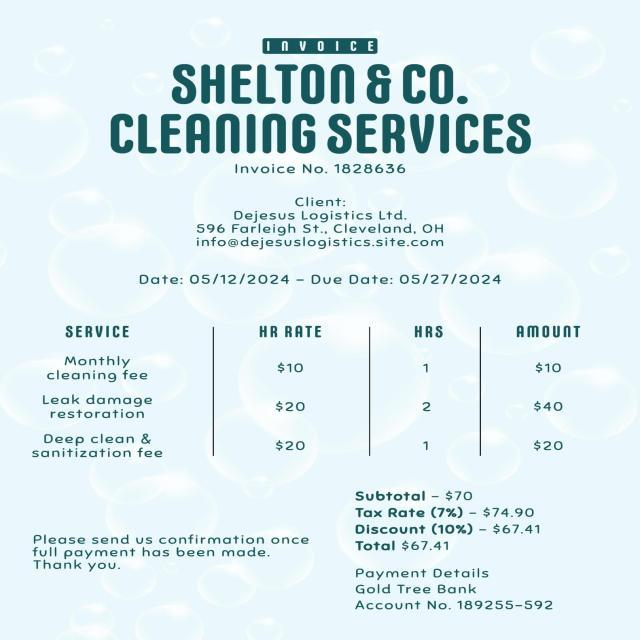ROI: (17, 312, 584, 466), (74, 64, 536, 154), (182, 189, 452, 252), (25, 525, 311, 576), (346, 486, 555, 555), (346, 562, 573, 611), (133, 270, 509, 290), (256, 30, 384, 59), (233, 161, 414, 177)
